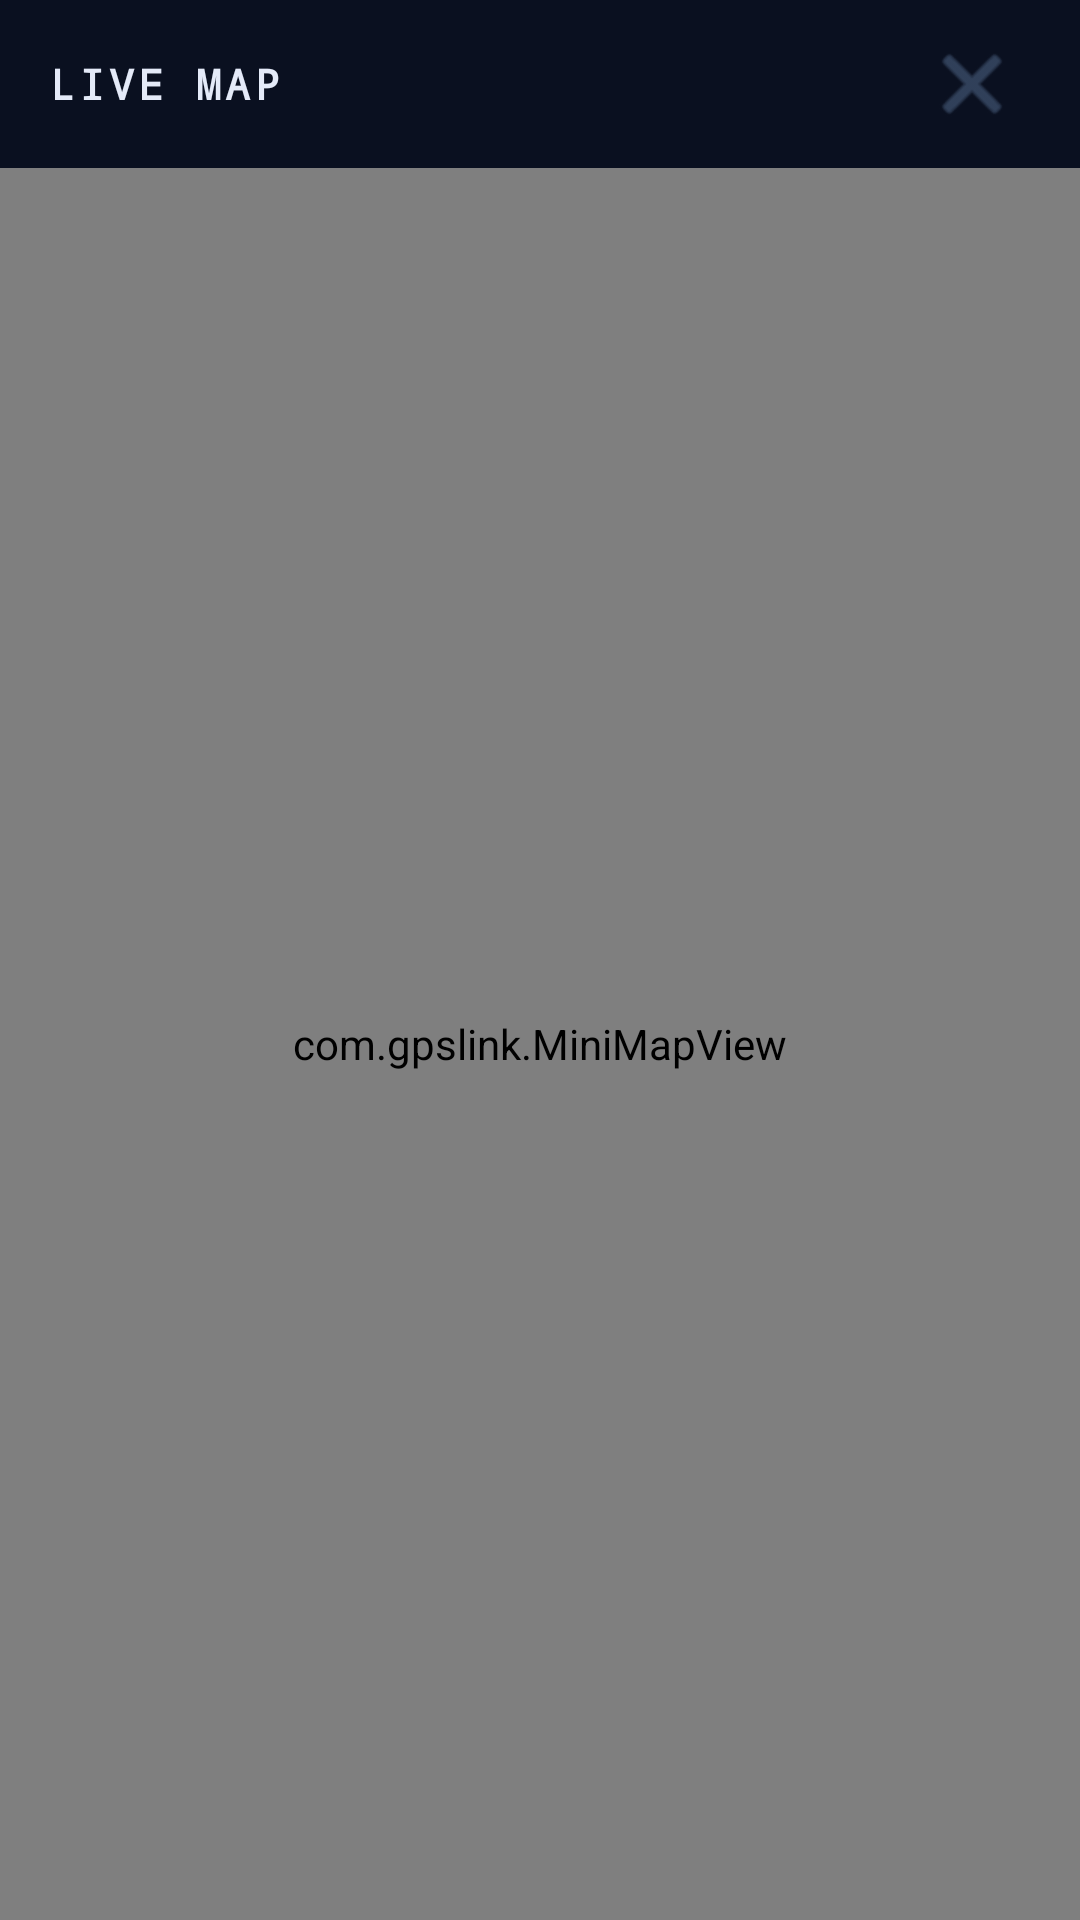

Icon bounding boxes for this 1080*1920 phone screenshot, format (x1, y1, x2, y2):
close clear cancel: (943, 55, 1001, 113)
